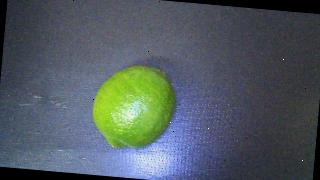EXPORTACION: (90, 62, 178, 152)
